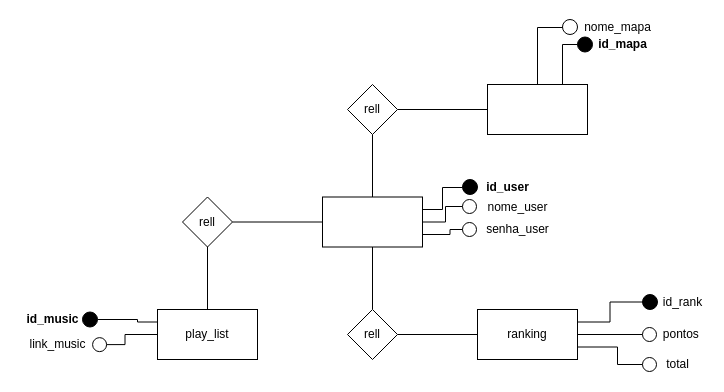
Image size: 724x392. Some labels were removed from this diagram. The centre of each missing label's shape, as x and y in pixels:
"mapa_mental" belongs at (537,109).
"Usuario" belongs at (372,221).
